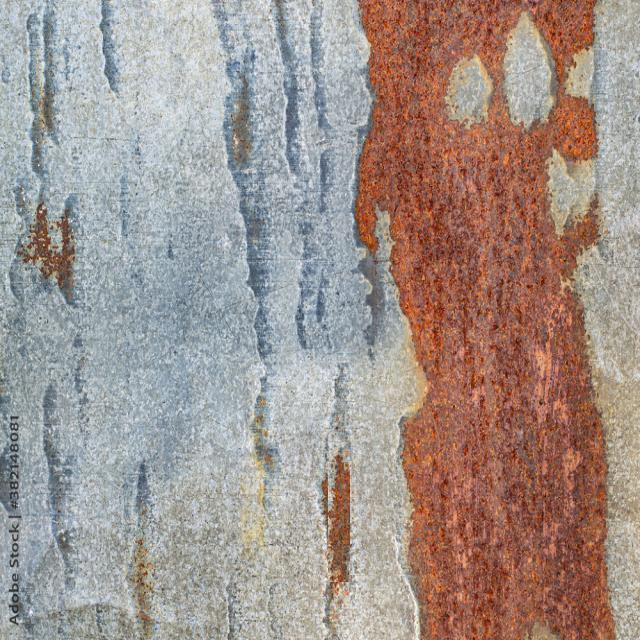Corrosion: (359, 0, 613, 640), (324, 455, 351, 586)
